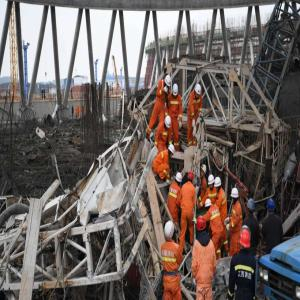blue: (268, 199, 277, 216), (248, 199, 256, 216)
red: (240, 230, 251, 252), (198, 216, 207, 234), (188, 172, 195, 183)
white: (165, 222, 176, 242), (231, 188, 240, 205), (215, 178, 222, 193), (165, 76, 172, 89), (165, 117, 172, 130), (176, 174, 183, 187), (173, 84, 179, 99), (196, 85, 202, 100), (169, 145, 175, 159), (209, 176, 215, 190), (201, 166, 207, 179)
